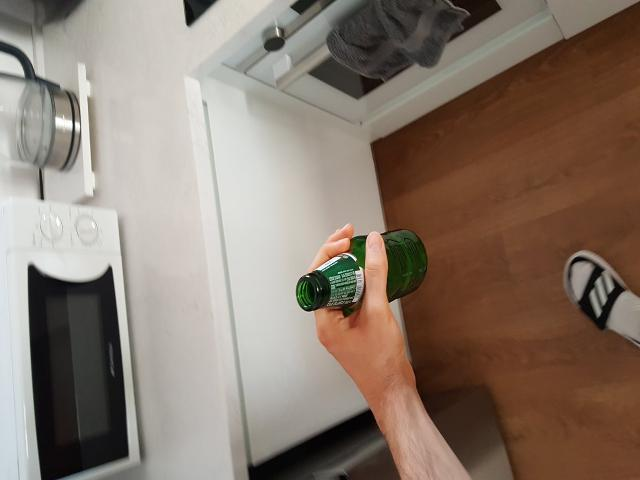beer: (297, 229, 428, 311)
